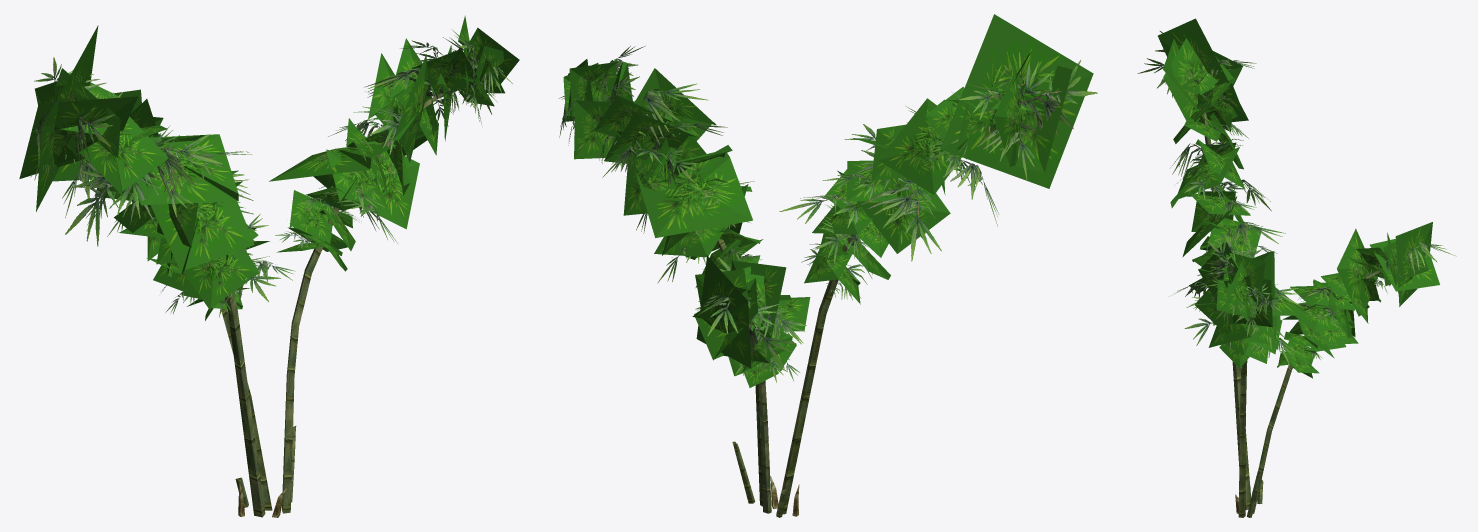
Rendered from zhuzi_60.FBX.
3 renders of one model, left to right at view 1: azimuth 30°, elevation 25°; view 2: azimuth 150°, elevation 25°; view 3: azimuth 270°, elevation 25°, orthographic. The views are drawn at different scales.
Visible parts, largest first — view 1: zhuzi_60; view 2: zhuzi_60; view 3: zhuzi_60.
Boxes of the visible parts, <box> form: zhuzi_60: <box>19,15,519,517</box>; zhuzi_60: <box>559,14,1097,517</box>; zhuzi_60: <box>1137,18,1456,517</box>.
Size of the model in its own units: 1300 by 1303 by 927.
